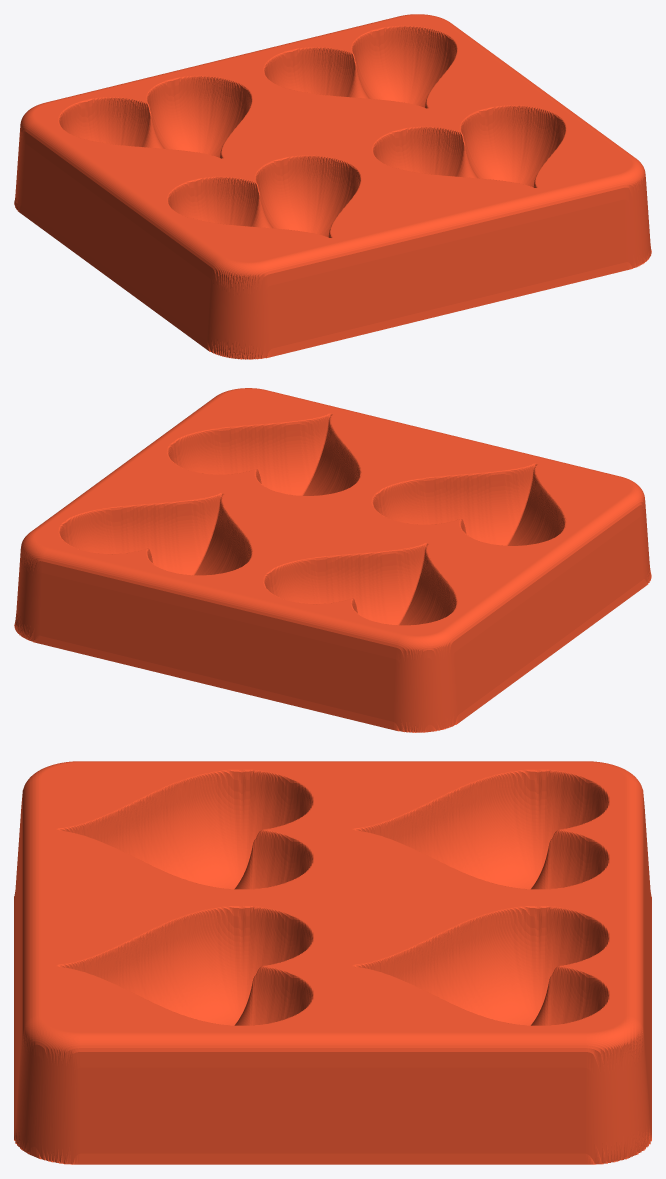
File: mold.glb
3 renders of one model, top to bottom at view 1: azimuth 30°, elevation 25°; view 2: azimuth 150°, elevation 25°; view 3: azimuth 270°, elevation 25°, orthographic. The views are drawn at different scales.
Parts seen in each view (by area): view 1: geometry_0; view 2: geometry_0; view 3: geometry_0.
Part boxes in pixels (bbox=[...]): geometry_0: bbox=[14, 14, 651, 359]; geometry_0: bbox=[14, 388, 651, 732]; geometry_0: bbox=[14, 761, 651, 1164].
Bounding box in the file's own units: 0.0942 × 0.0182 × 0.087.
